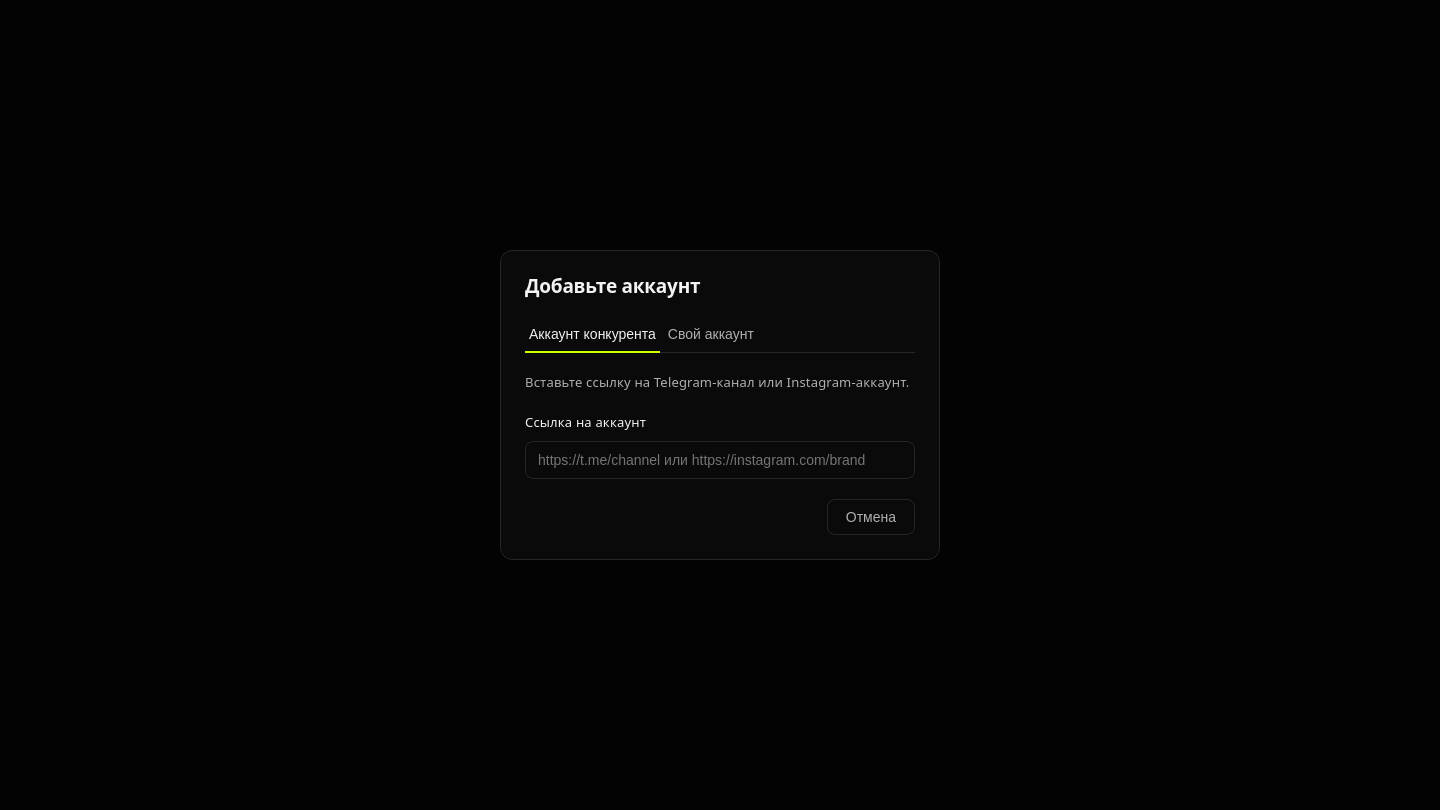
AddAccountModal › offers nothing to add while the link cannot be resolved
The image size is (1440, 810).
Type "https://vk.com/somegroup" into the field labelled "Ссылка на аккаунт" at point(720, 460), box [525,441,915,479]
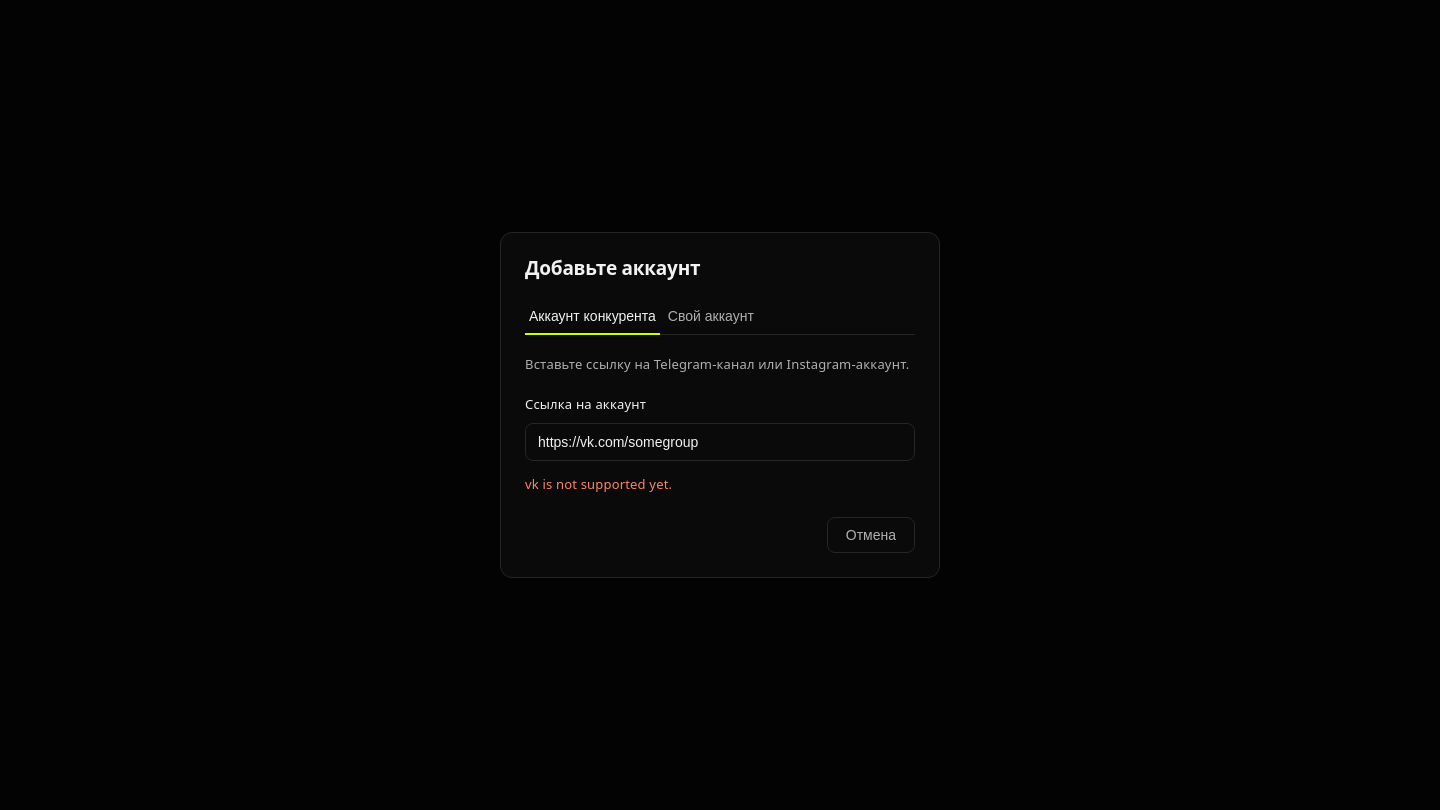
Now the text "vk is not supported yet." is shown, box [525,475,672,493]
